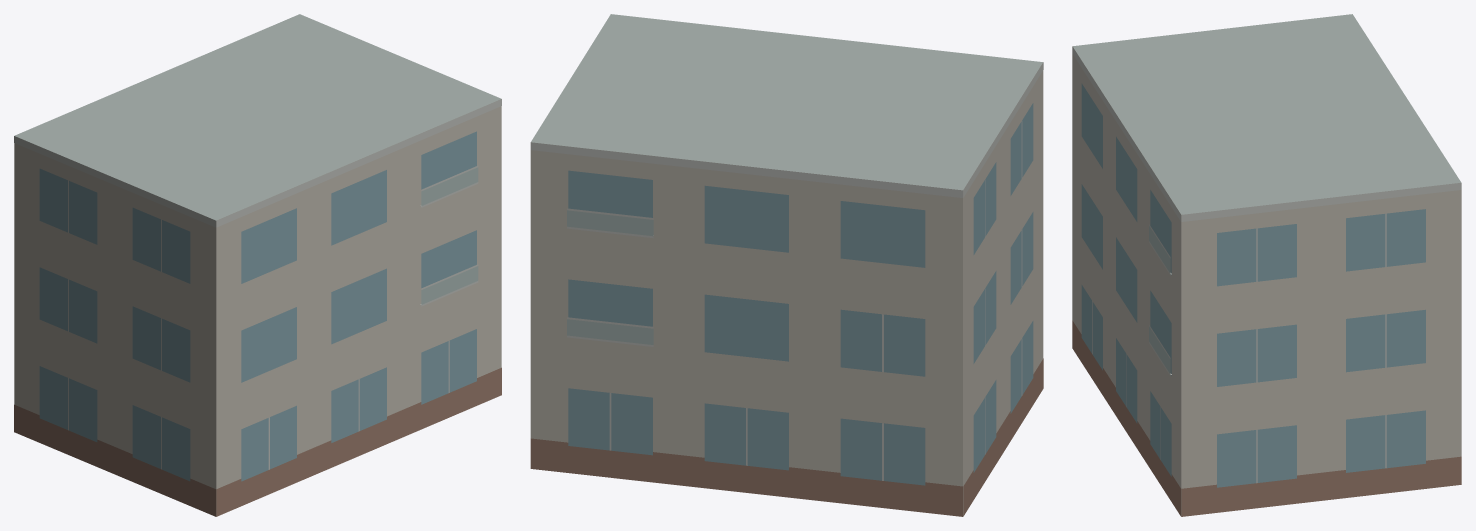
File: survey-upis-32867134.glb
3 views of the same model, side by side, from view 1: azimuth 30°, elevation 25°; view 2: azimuth 150°, elevation 25°; view 3: azimuth 270°, elevation 25° (orthographic). The views are drawn at different scales.
Parts seen in each view (by area): view 1: survey-upis-32867134.tmp; view 2: survey-upis-32867134.tmp; view 3: survey-upis-32867134.tmp.
Boxes of the visible parts, x1,y1,x2,y2 form: survey-upis-32867134.tmp: (14,14,501,516); survey-upis-32867134.tmp: (530,14,1043,516); survey-upis-32867134.tmp: (1072,14,1461,516).
Bounding box in the file's own units: 14.55 × 10.2 × 11.92.
